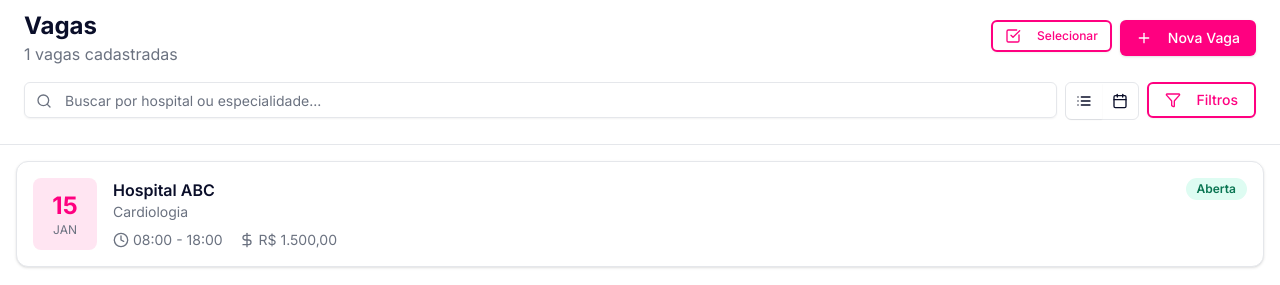
Scenario: VagasPage › selection mode (Sprint 58) › deve sair do modo seleção ao clicar Cancelar
The width and height of the screenshot is (1280, 285).
Note: Entrar no modo seleção
Click the button "Selecionar". click: (1052, 36)
box: [991, 20, 1112, 52]
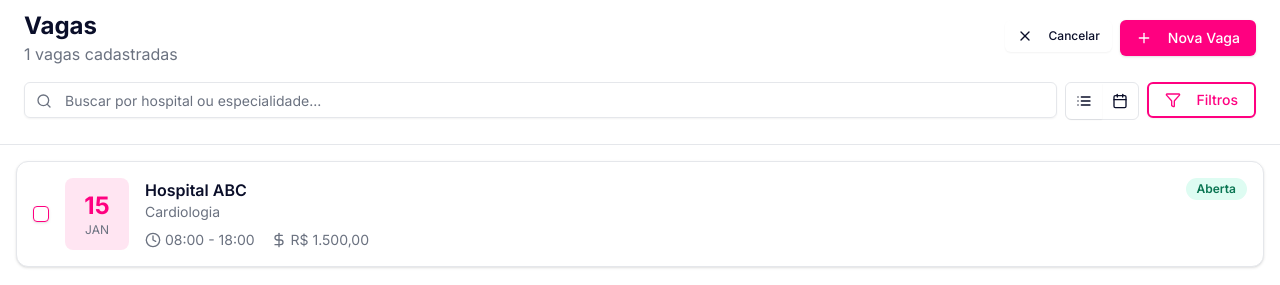
expect the checkbox is shown: met, box [33, 206, 49, 222]
Click the button "Cancelar". click: (1058, 36)
box: [1004, 20, 1112, 52]
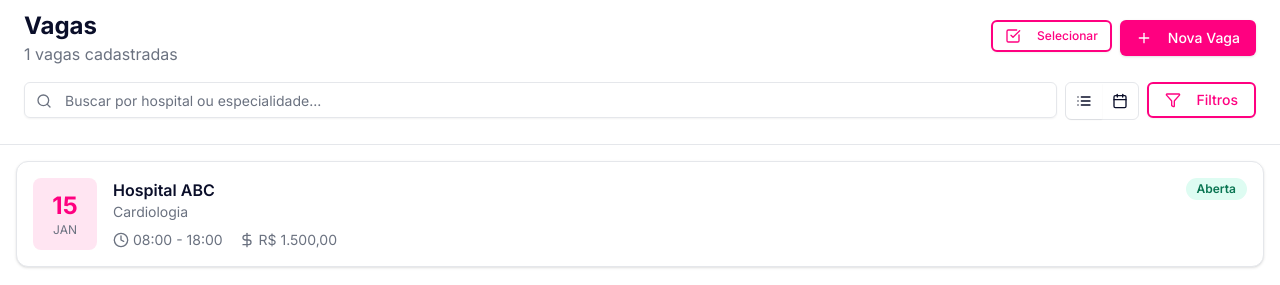
expect the checkbox is gone: met
